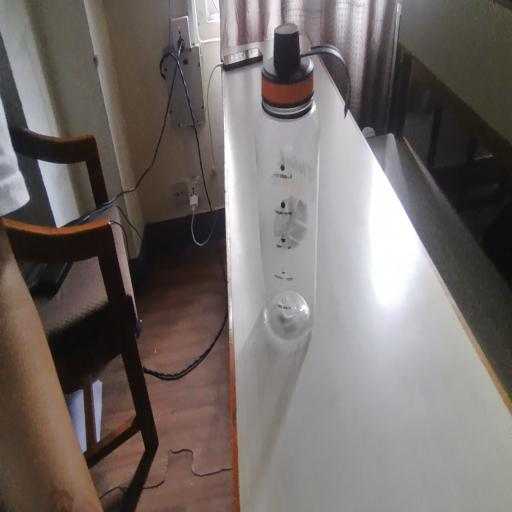Bottle: (250, 42, 386, 338)
